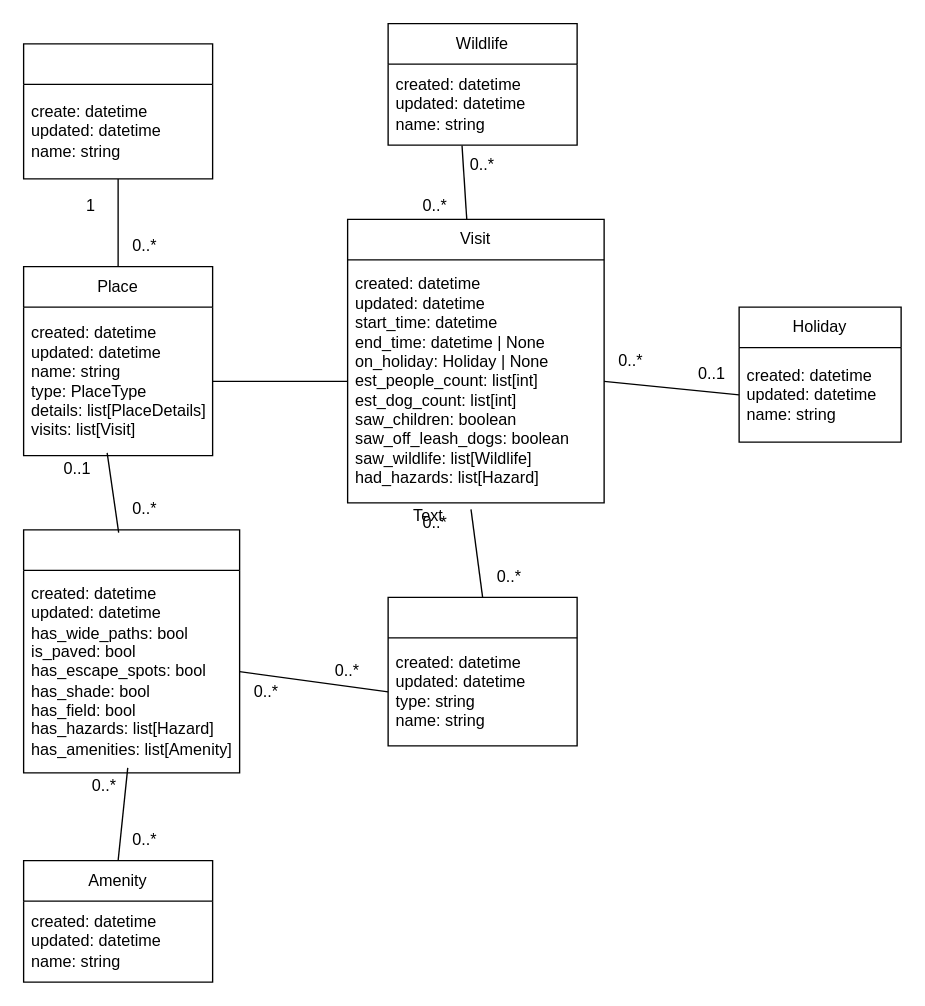
Some shapes in this 925 by 1006 pixel diagram are drawn without their labels. The shapes that lost their labels are listed below. From the top down, each one's box as (x1, y1, x2, y2) in pixels, then its label:
(22, 43, 213, 179): PlaceType
(22, 529, 240, 773): PlaceDetails
(387, 596, 577, 746): Hazard
